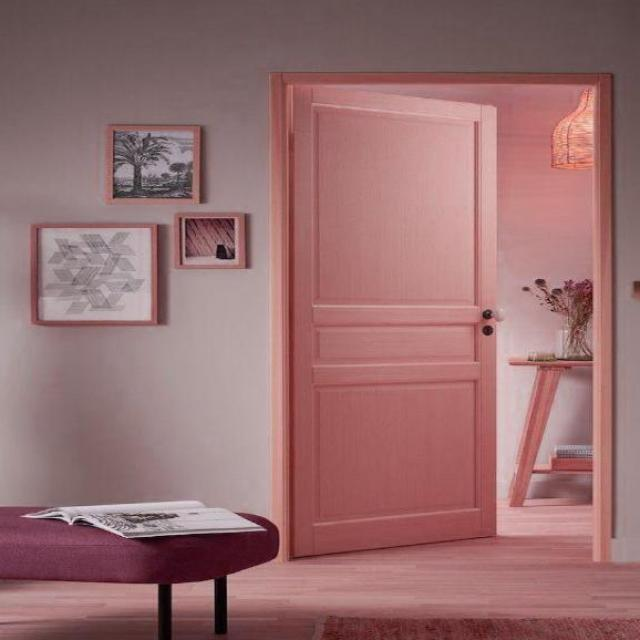door: (287, 84, 500, 558)
